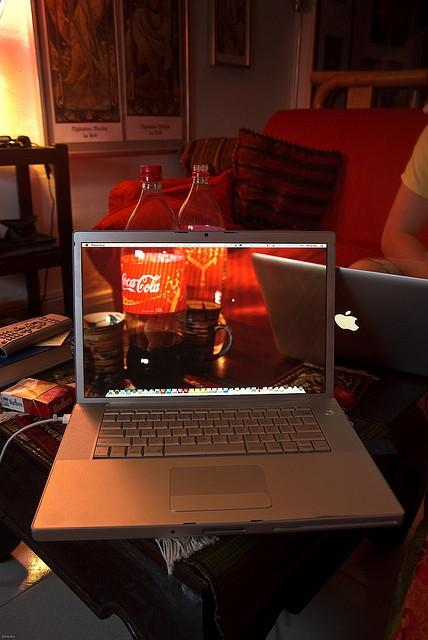apple: (334, 311, 359, 331)
